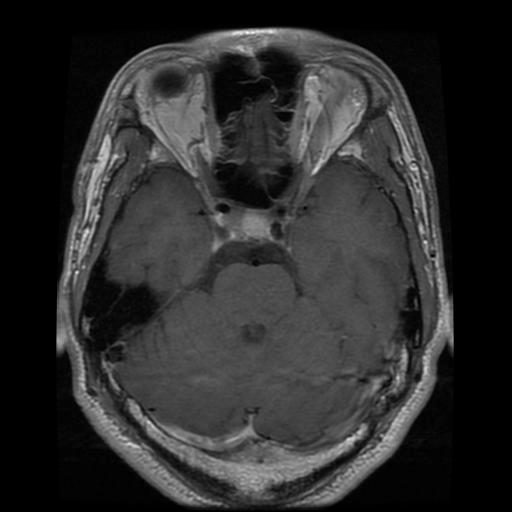Tumour-Pituitary: (208, 202, 298, 257)
